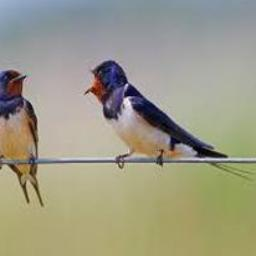Swallow: (81, 59, 255, 181), (0, 67, 42, 207)
